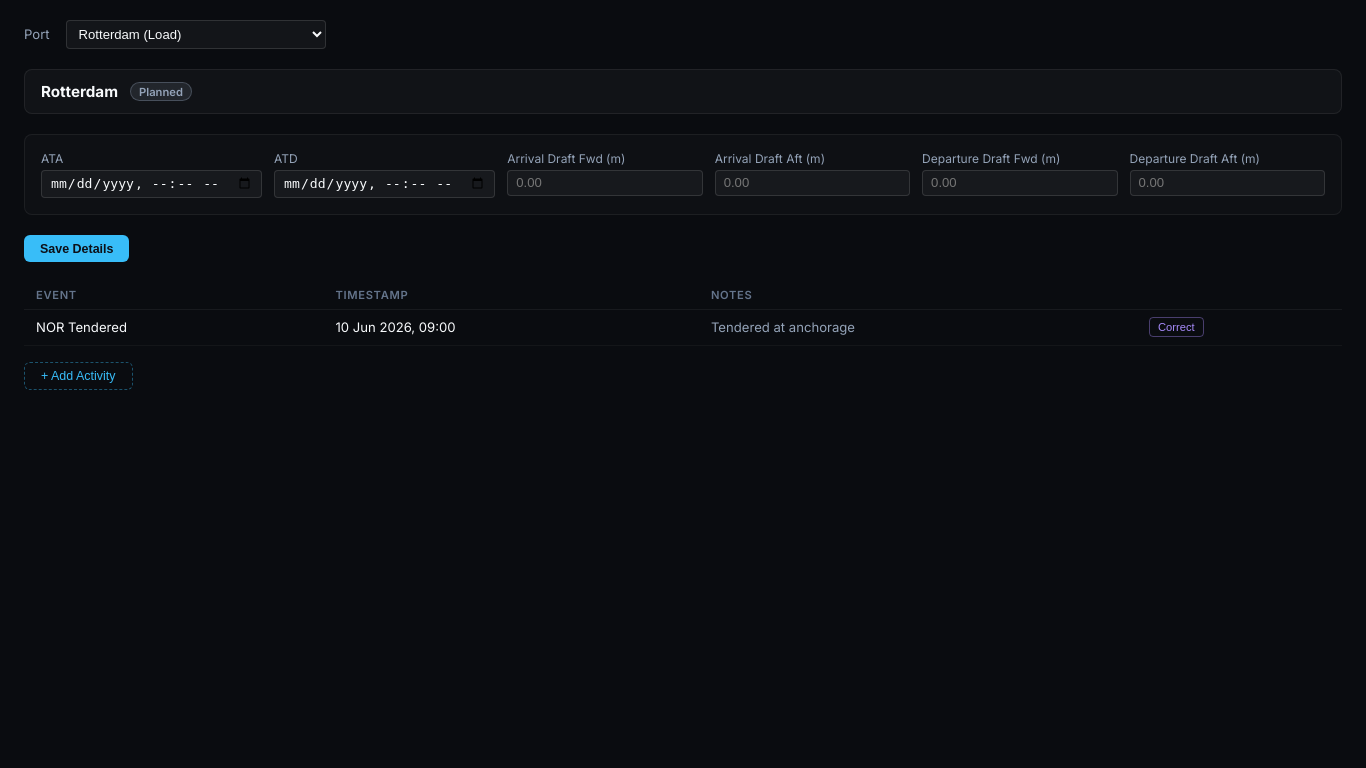
Test: PortActivitiesPanel › correct activity pre-fills form with corrects_activity_id
Click the button "Correct" at (1176, 327), box 1149,317 -> 1204,337
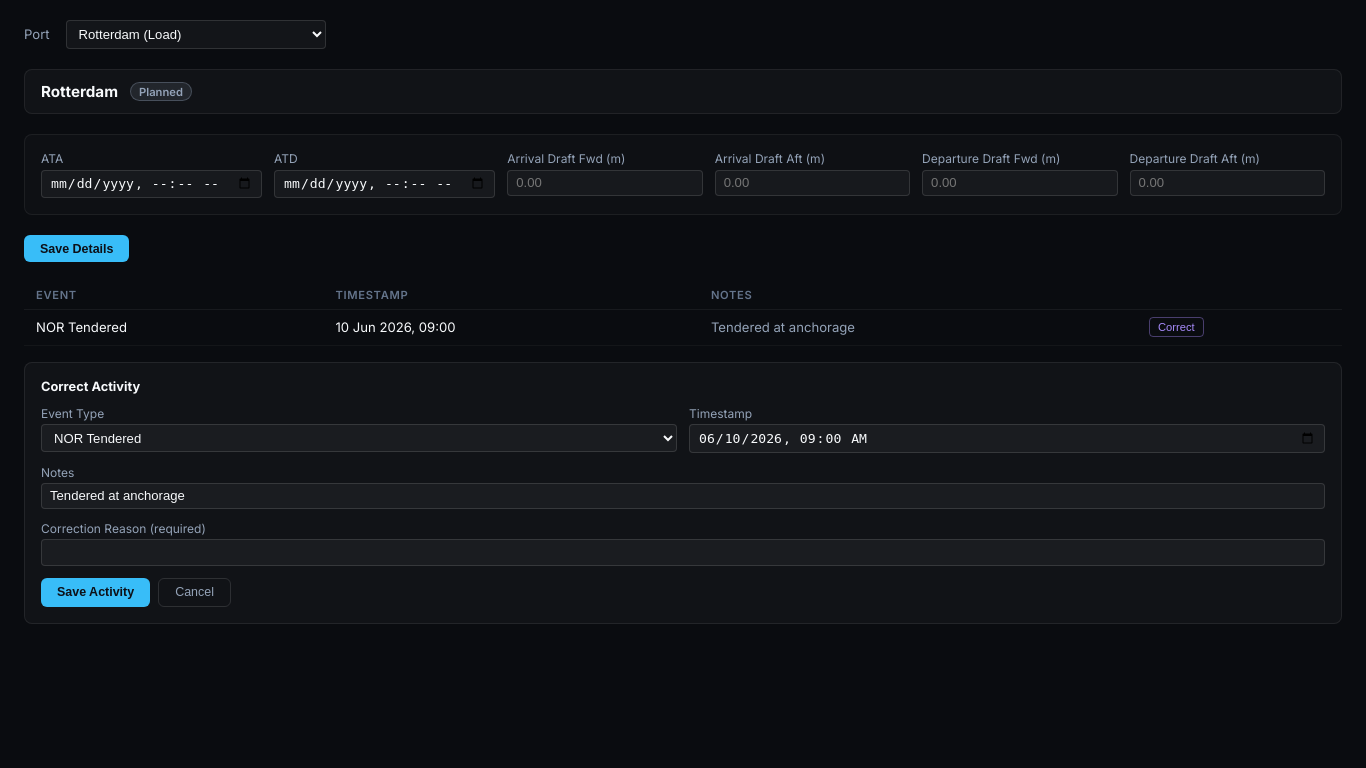
expect the field with test id "correction-reason-input" is shown: met, box 41,540 -> 1325,566
expect the dropdown with test id "activity-type-select" shows "NOR Tendered": met, box 41,424 -> 677,452
